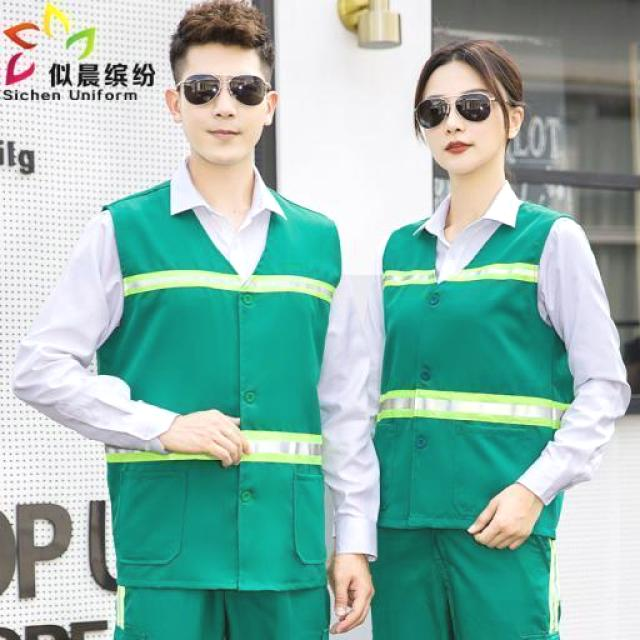face_nomask: (175, 66, 273, 148), (412, 86, 502, 162)
glasses: (175, 68, 277, 112), (410, 90, 500, 134)
hand_noglove: (467, 472, 552, 559), (152, 400, 250, 471), (317, 547, 382, 637)
head_nohelmet: (162, 0, 283, 61), (412, 32, 529, 82)
person: (0, 0, 378, 640), (344, 27, 638, 640)
vest: (100, 178, 342, 578), (376, 195, 572, 541)
